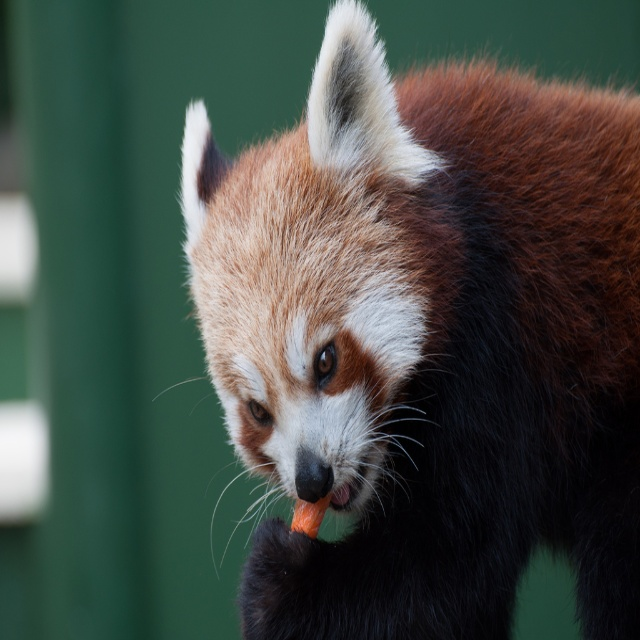Red panda: (152, 0, 640, 639)
